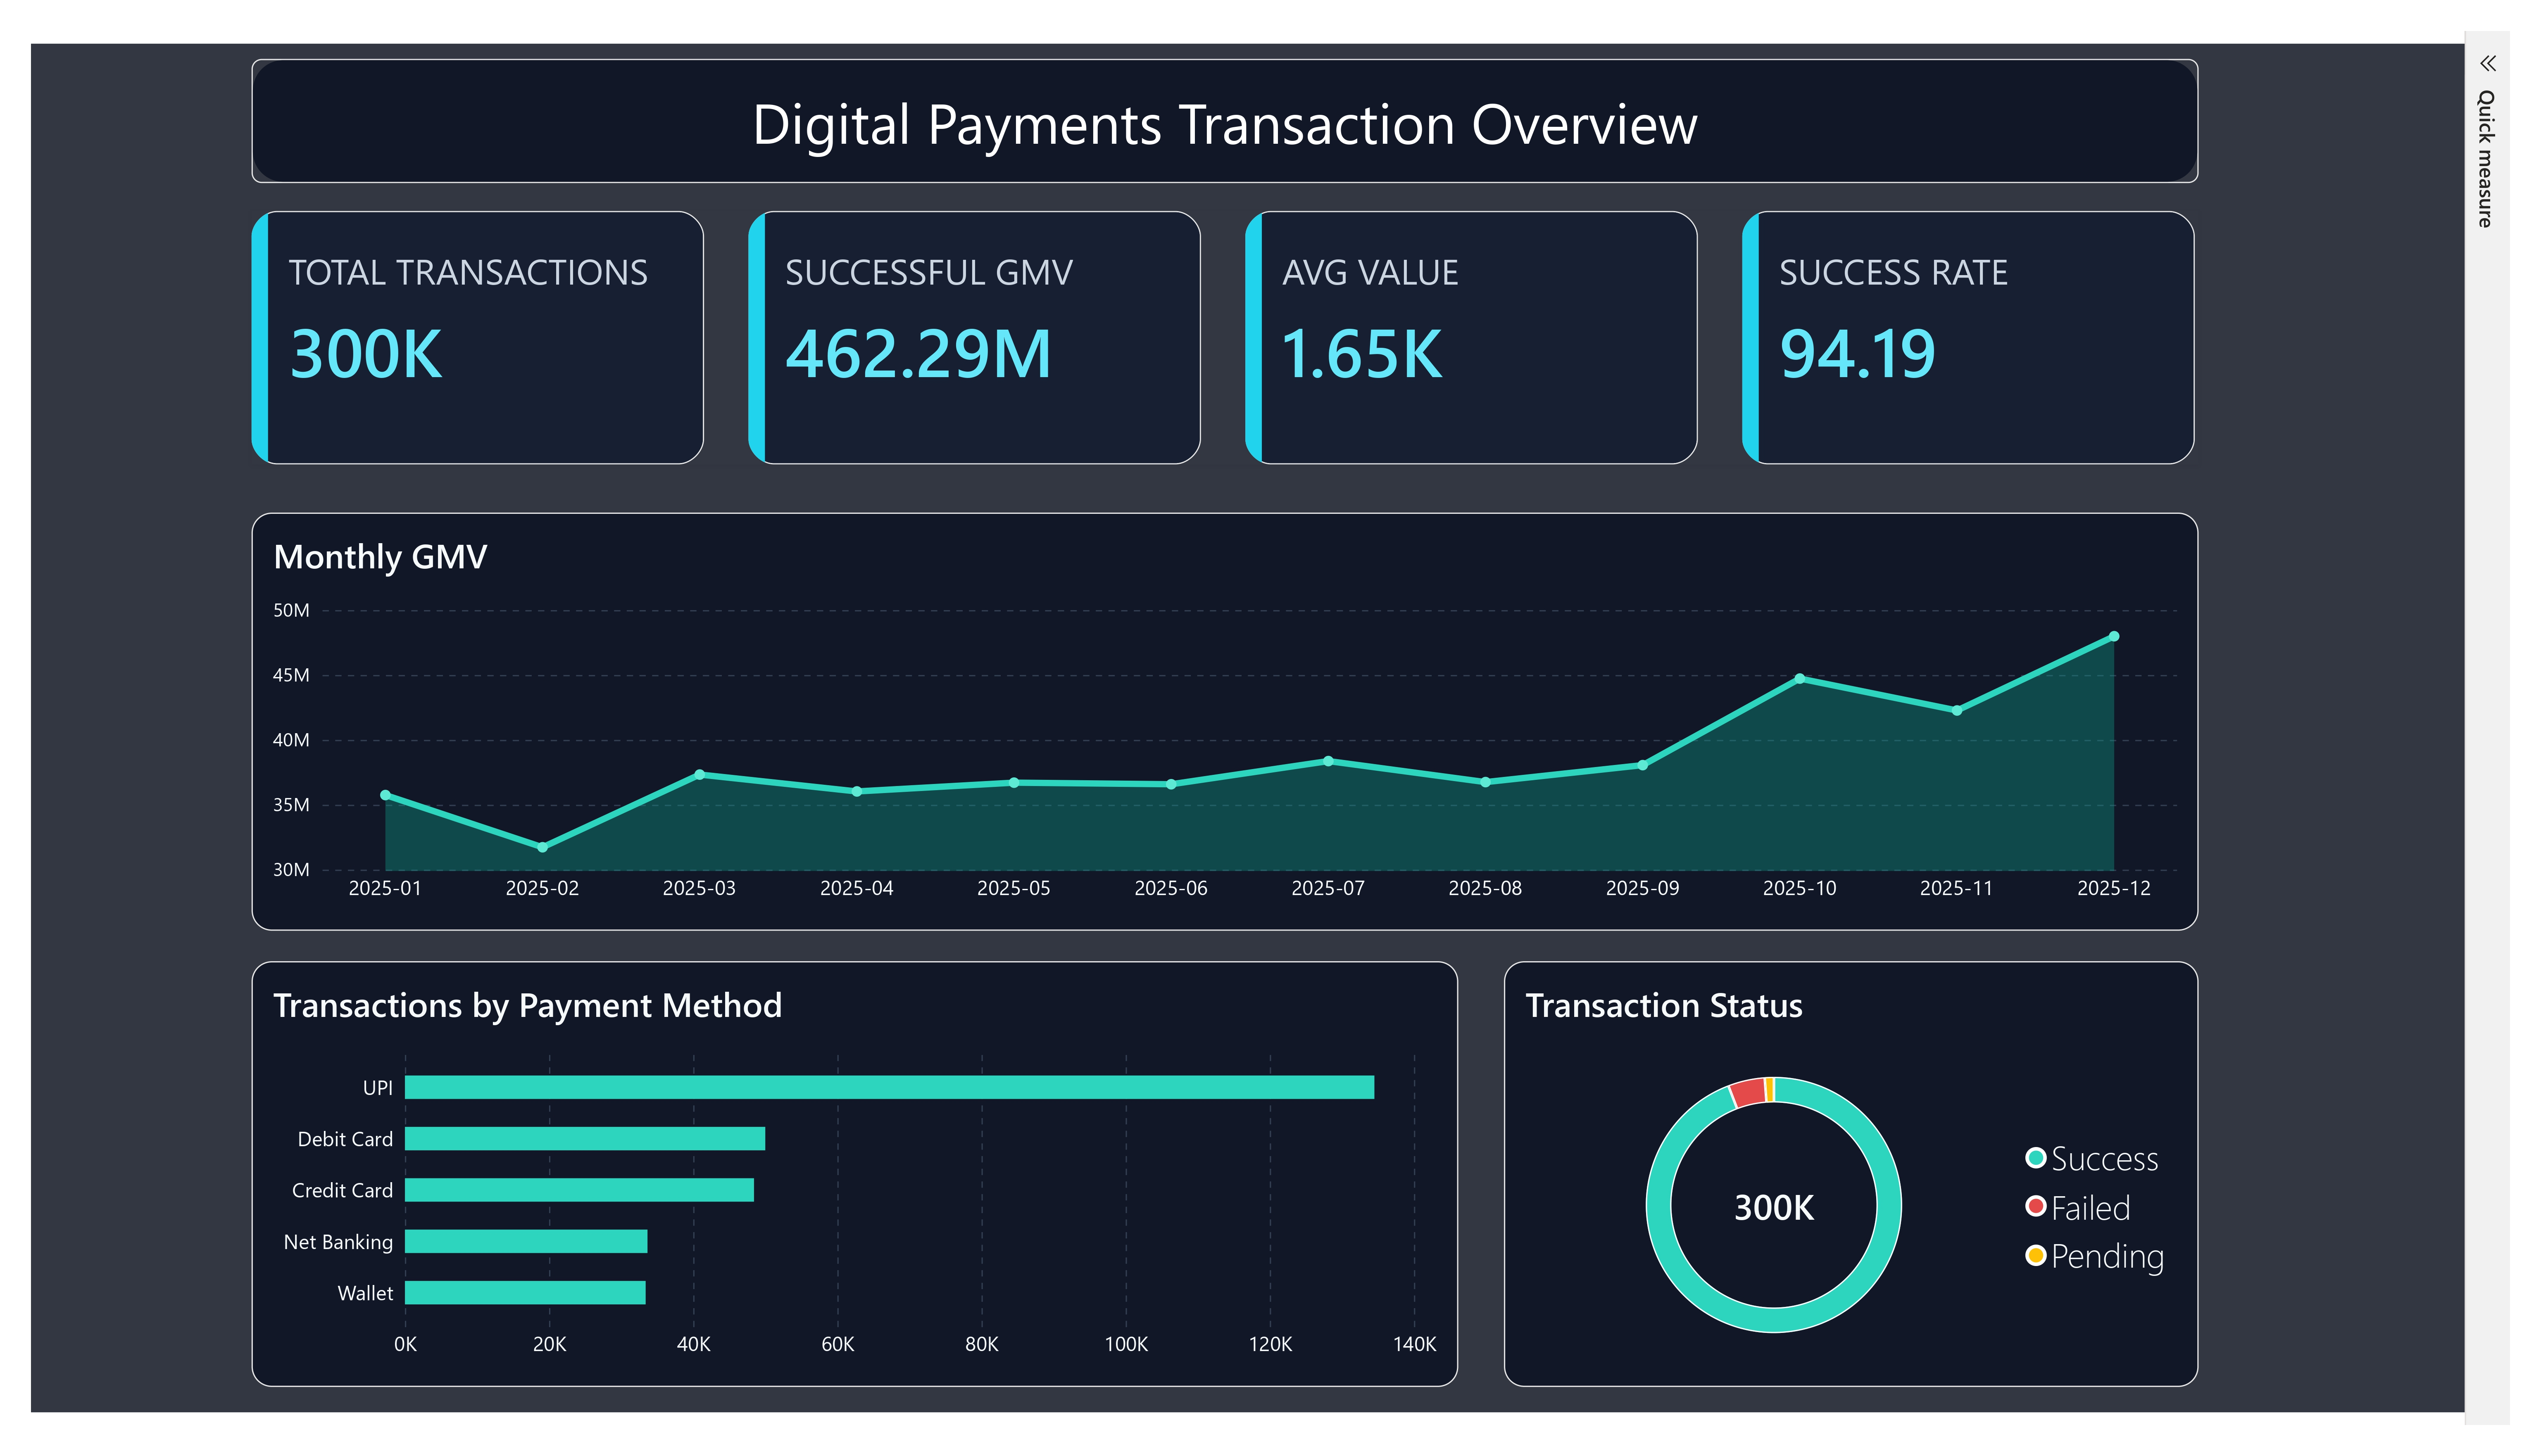

What the dashboard file says about the page in this screenshot:
{"tool":"powerbi","page":{"name":"Transaction Overview","canvas":[1920,1080],"ordinal":0},"visuals":[{"type":"cardVisual","fields":{"Data":["Sum(digital_payment vw_transaction_summary.total_transactions)","Sum(digital_payment vw_transaction_summary.successful_gmv)","Sum(digital_payment vw_transaction_summary.avg_transaction_value)","Sum(digital_payment vw_transaction_summary.success_rate)"]},"box":[174,132,1536,200],"z":0},{"type":"areaChart","title":"Monthly GMV","fields":{"Category":["digital_payment vw_monthly_trends.month"],"Y":["Sum(digital_payment vw_monthly_trends.successful_gmv)"]},"box":[174,370,1536,330],"z":1000},{"type":"clusteredBarChart","title":"Transactions by Payment Method","fields":{"Category":["digital_payment vw_payment_method_summary.payment_method"],"Y":["Sum(digital_payment vw_payment_method_summary.transaction_count)"]},"box":[174,724,952,336],"z":2000},{"type":"donutChart","title":"Transaction Status","fields":{"Category":["digital_payment vw_transaction_status.transaction_status"],"Y":["Sum(digital_payment vw_transaction_status.transaction_count)"]},"box":[1162,724,548,336],"z":3000},{"type":"shape","box":[174,12,1536,98],"z":4000}]}

Visuals, with their boxes on the page's 1920x1080 design canvas (x1, y1, x2, y2). These are canvas units, not pixel positions in the 2541x1456 screenshot, which may show the page scaled, cropped or inside an application window:
cardVisual - Sum(digital_payment vw_transaction_summary.total_transactions) x Sum(digital_payment vw_transaction_summary.successful_gmv): 174,132,1710,332
"Monthly GMV" areaChart: 174,370,1710,700
"Transactions by Payment Method" clusteredBarChart: 174,724,1126,1060
"Transaction Status" donutChart: 1162,724,1710,1060
shape: 174,12,1710,110
